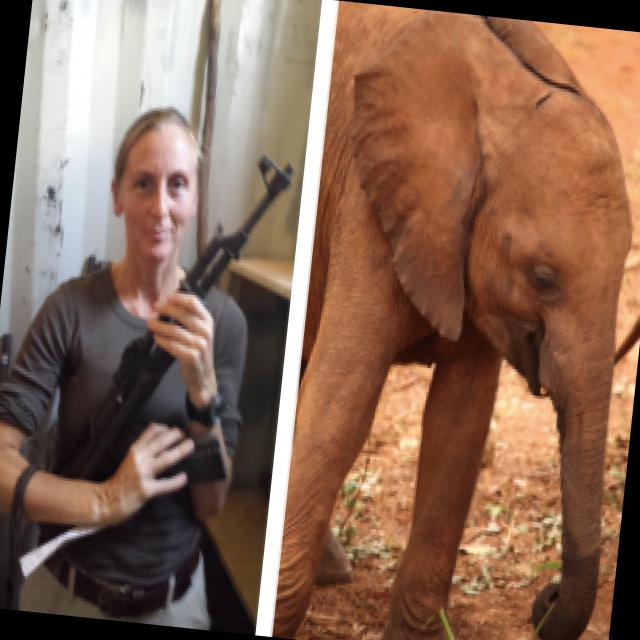elephant: (273, 11, 640, 636)
ranger: (0, 7, 295, 602)
weapon: (59, 126, 299, 549)
